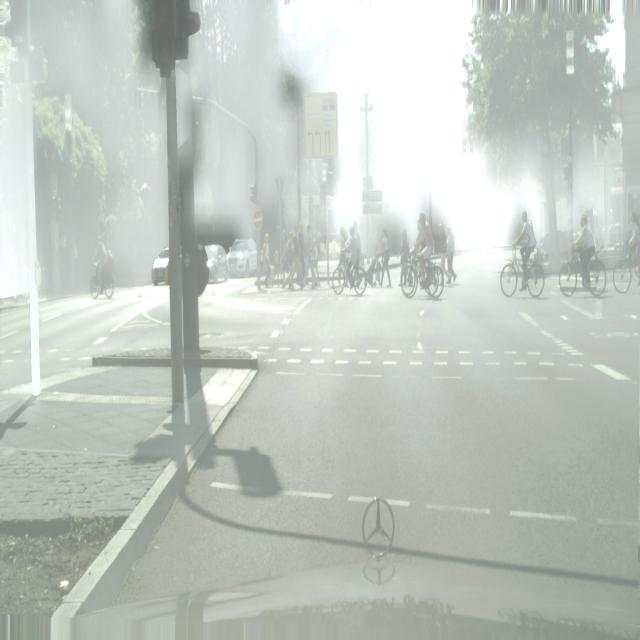car: (559, 209, 607, 296), (501, 208, 545, 298), (402, 214, 444, 299), (401, 216, 444, 298), (332, 218, 366, 296), (332, 225, 366, 296), (91, 228, 114, 299), (612, 241, 640, 292)
person: (367, 228, 392, 288), (627, 208, 640, 284), (398, 228, 410, 286), (261, 233, 273, 289), (297, 224, 307, 289), (446, 224, 456, 283)
truck: (151, 242, 209, 291), (227, 238, 258, 278), (205, 243, 228, 284)
